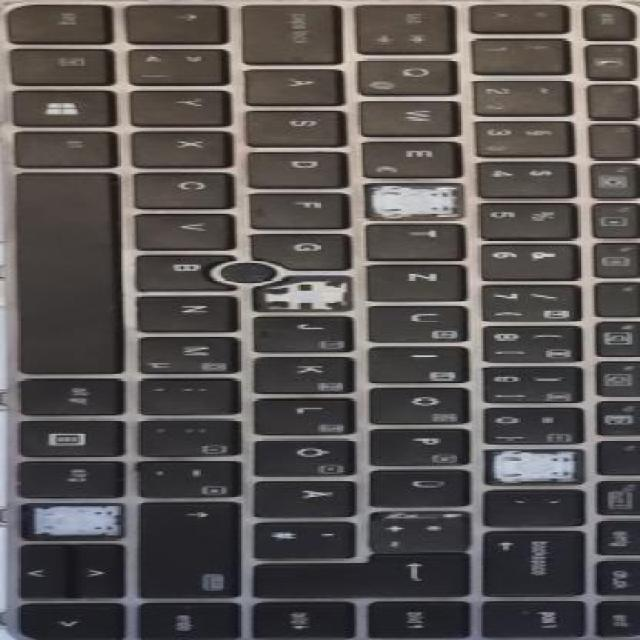Keyboard problems: (255, 277, 349, 311), (25, 505, 123, 537), (486, 451, 583, 483), (368, 186, 462, 217)
